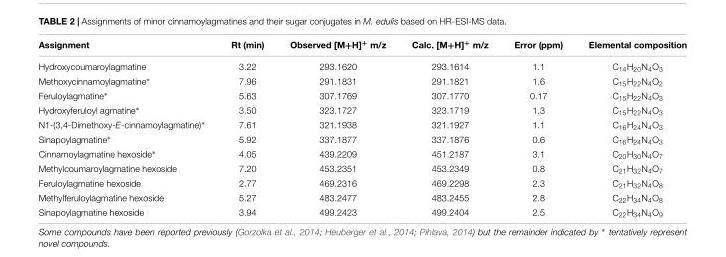table: (37, 37, 686, 217)
table column: (37, 37, 217, 217), (276, 37, 398, 217), (574, 37, 686, 217), (398, 37, 500, 217), (500, 37, 574, 217), (217, 37, 276, 217)
table column header: (37, 37, 686, 57)
table row: (37, 37, 686, 57), (37, 57, 686, 73), (37, 87, 686, 102), (37, 102, 686, 117), (37, 131, 686, 146), (37, 146, 686, 161), (37, 175, 686, 190), (37, 73, 686, 87), (37, 117, 686, 131), (37, 161, 686, 175), (37, 190, 686, 204), (37, 204, 686, 217)
